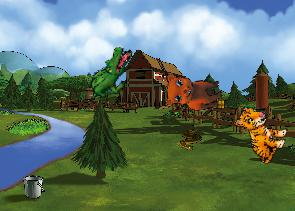bear: (161, 66, 224, 114)
crocodile: (87, 42, 133, 107)
tiger: (225, 102, 293, 167)
